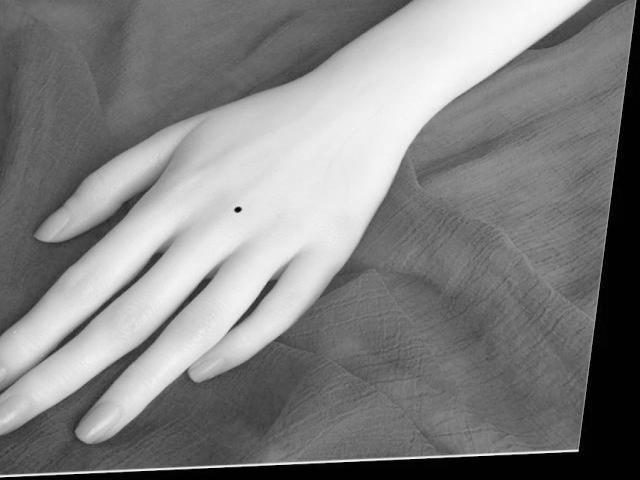not-gloved: (0, 78, 388, 444)
